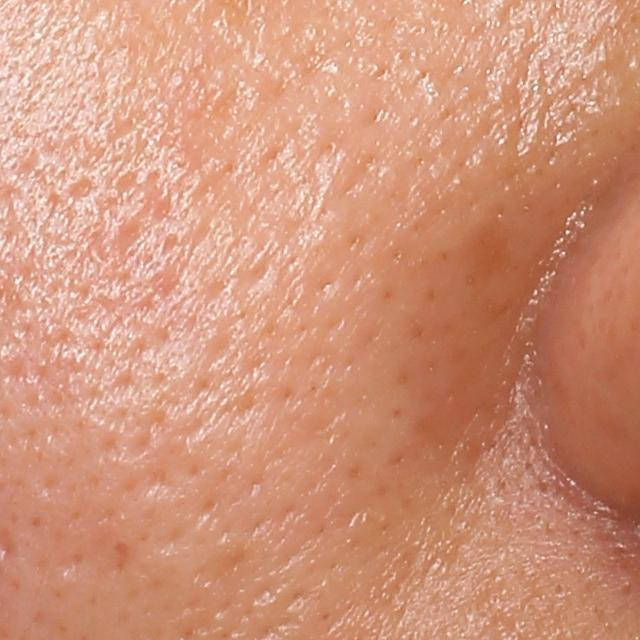atrophic_scar: (90, 171, 165, 267), (58, 172, 95, 203)
